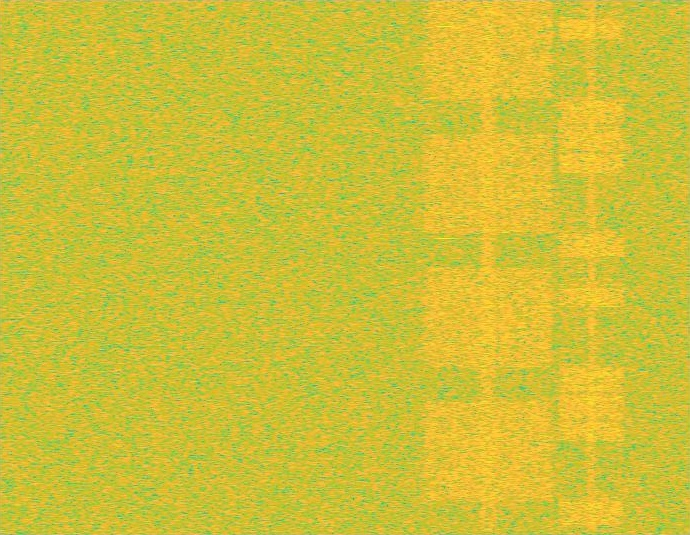5G: (419, 0, 557, 534)
DSSS: (479, 0, 497, 534), (587, 0, 596, 534)
LTE: (557, 0, 626, 534)
Radar: (439, 0, 453, 534)
